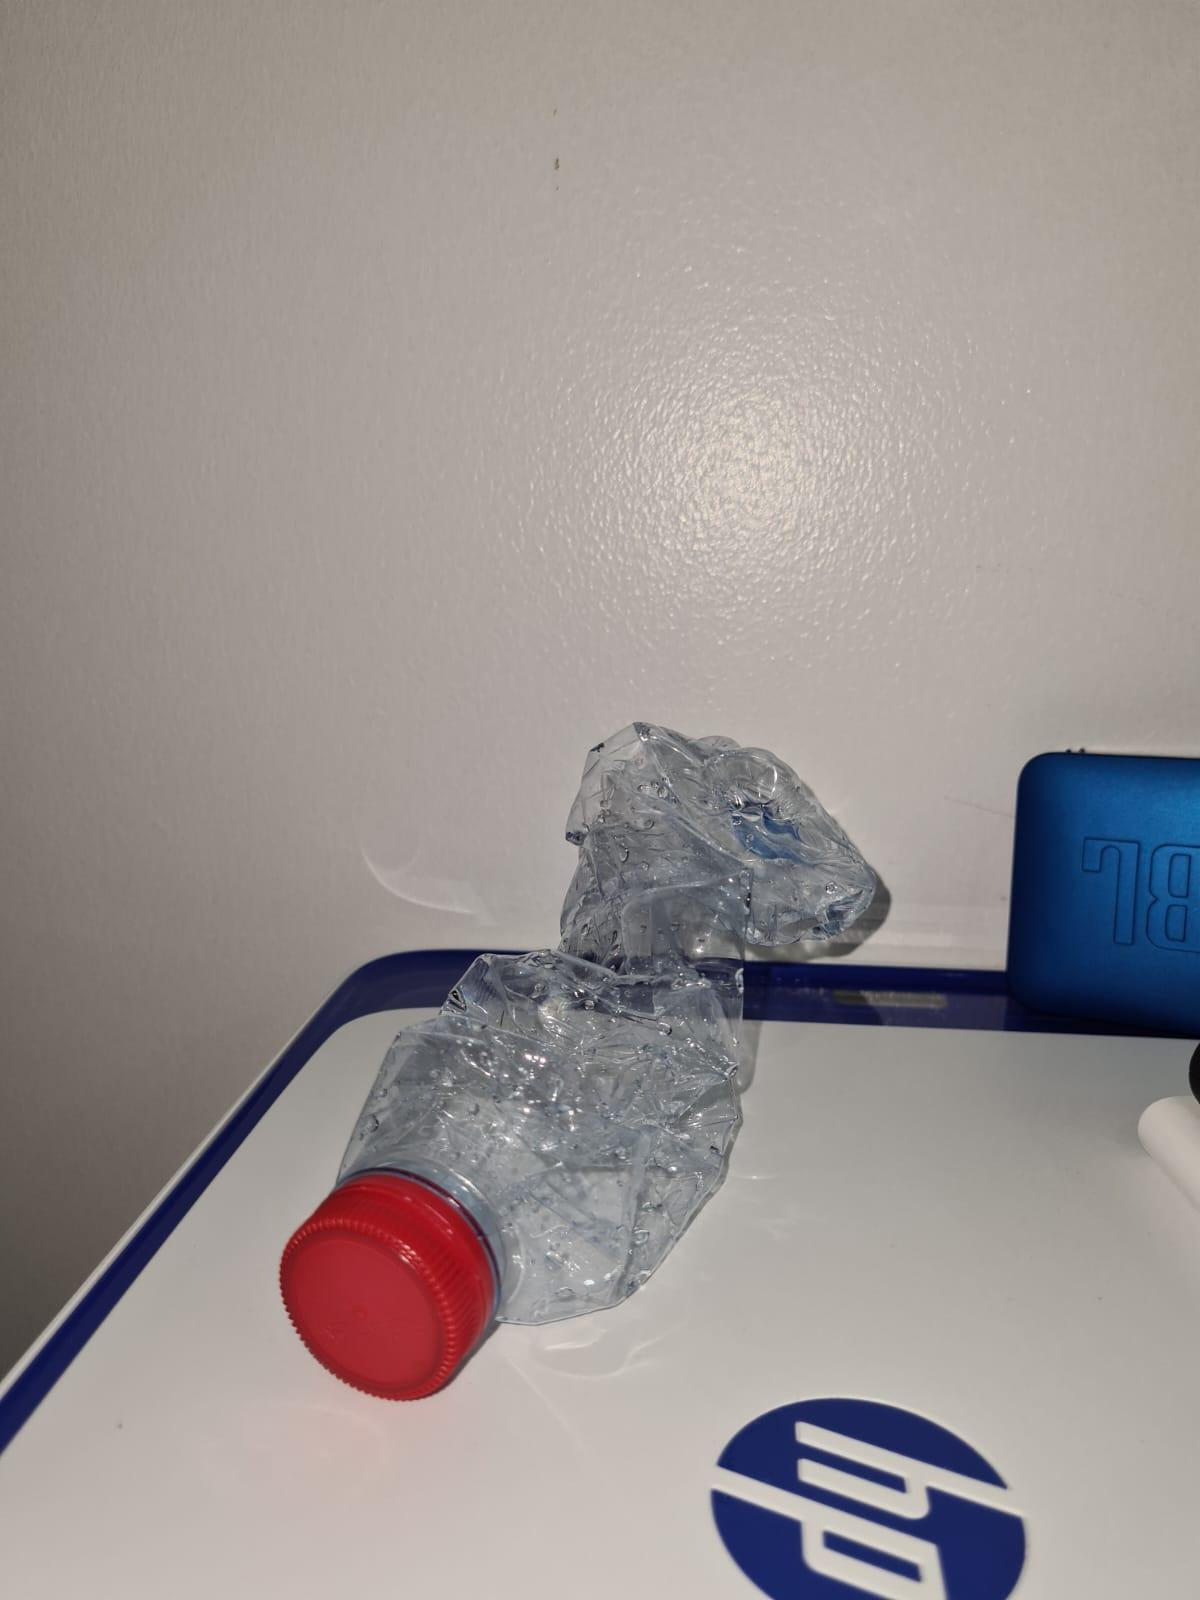bottle: (287, 731, 895, 1393)
